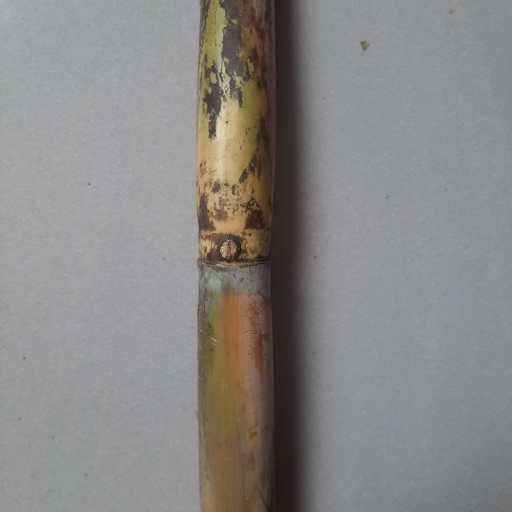Bud: (220, 236, 238, 261)
